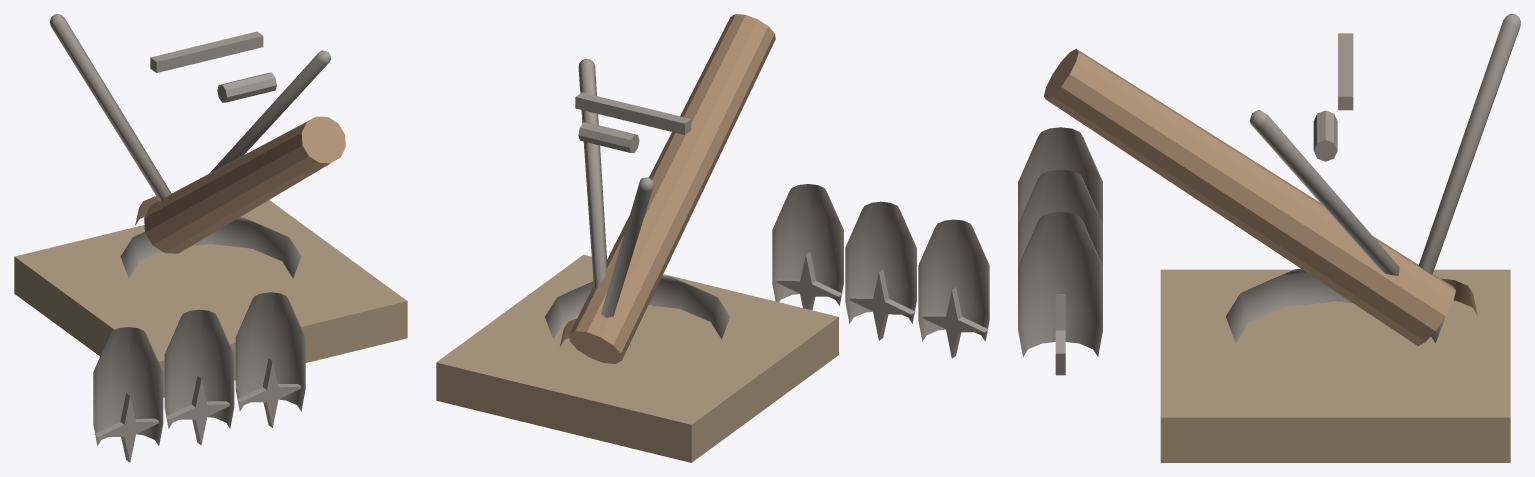
Rendered from trench-line-1917-trench-mortar-4f423725__24098.glb.
The picture shows the model from 3 angles, left to right: view 1: azimuth 30°, elevation 25°; view 2: azimuth 150°, elevation 25°; view 3: azimuth 270°, elevation 25°; orthographic projection. The views are drawn at different scales.
Visible parts, largest first — view 1: trench-mortar; view 2: trench-mortar; view 3: trench-mortar.
Part boxes in pixels (bbox=[...]): trench-mortar: bbox=[14, 14, 407, 462]; trench-mortar: bbox=[436, 14, 989, 462]; trench-mortar: bbox=[1018, 14, 1520, 462].
Size of the model in its own units: 0.99 by 0.7834 by 1.01.
